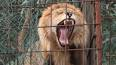lion: (40, 5, 89, 65)
